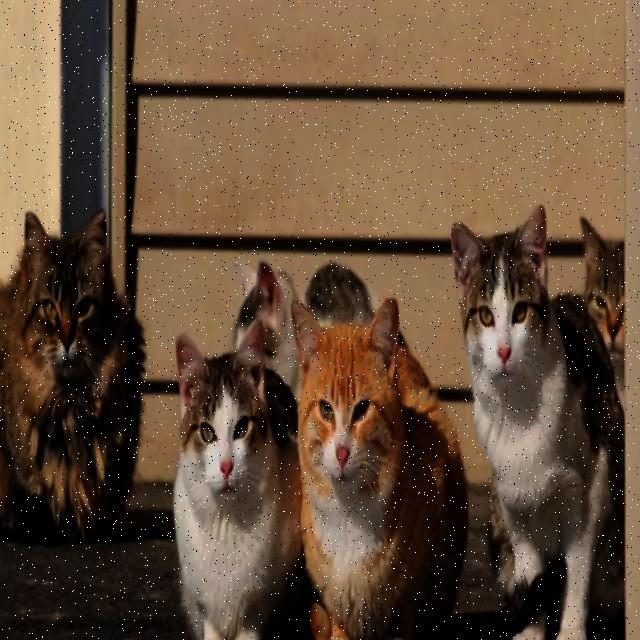cat: (451, 208, 624, 638), (292, 299, 468, 639), (0, 213, 145, 542), (174, 322, 301, 639), (234, 263, 300, 396), (581, 217, 624, 406), (305, 263, 374, 327)
